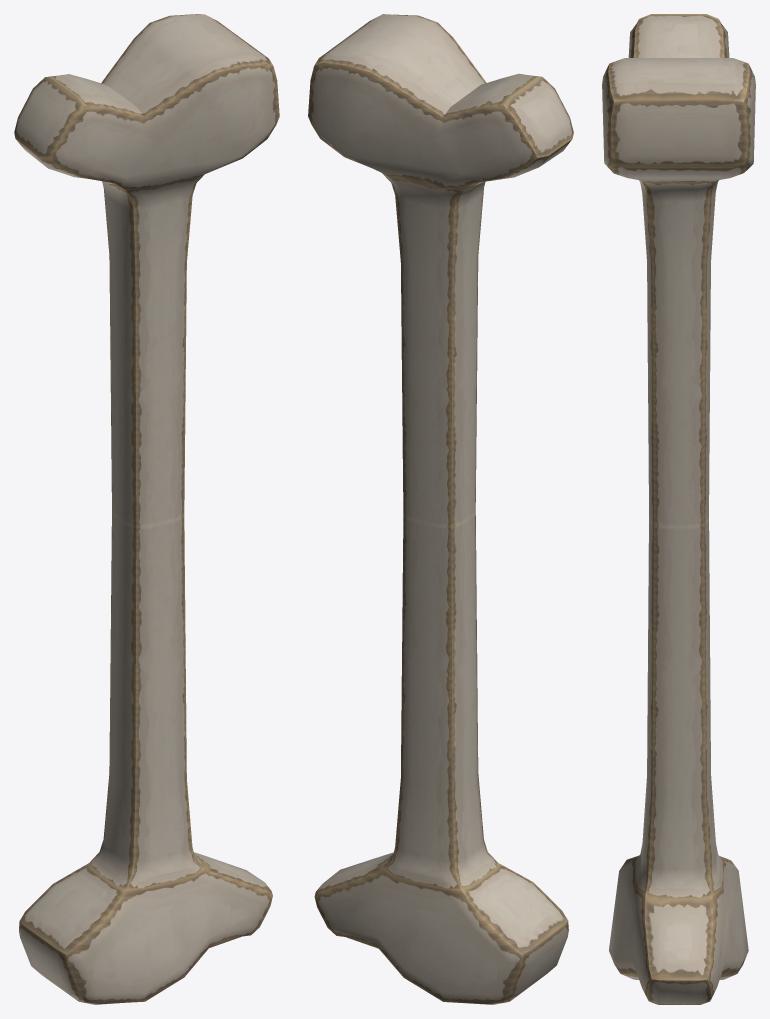
File: bone.glb
3 renders of one model, left to right at view 1: azimuth 30°, elevation 25°; view 2: azimuth 150°, elevation 25°; view 3: azimuth 270°, elevation 25°, orthographic. The views are drawn at different scales.
Parts seen in each view (by area): view 1: Bone_Whole; view 2: Bone_Whole; view 3: Bone_Whole.
Boxes of the visible parts, x1=… form: Bone_Whole: x1=14, y1=14, x2=279, y2=1004; Bone_Whole: x1=308, y1=14, x2=573, y2=1004; Bone_Whole: x1=602, y1=14, x2=755, y2=1004.
Bounding box in the file's own units: 0.3472 × 1.3 × 0.1915.
Materials: 1 (1 with a texture image).
